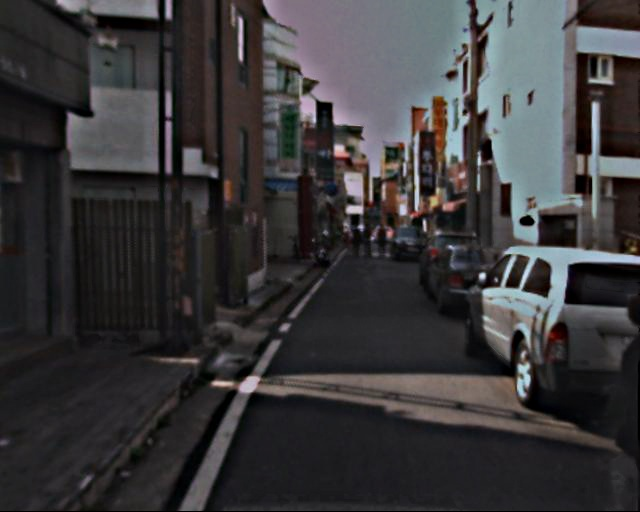person: (588, 294, 640, 509), (375, 221, 391, 260), (348, 225, 363, 261), (362, 224, 376, 259)
